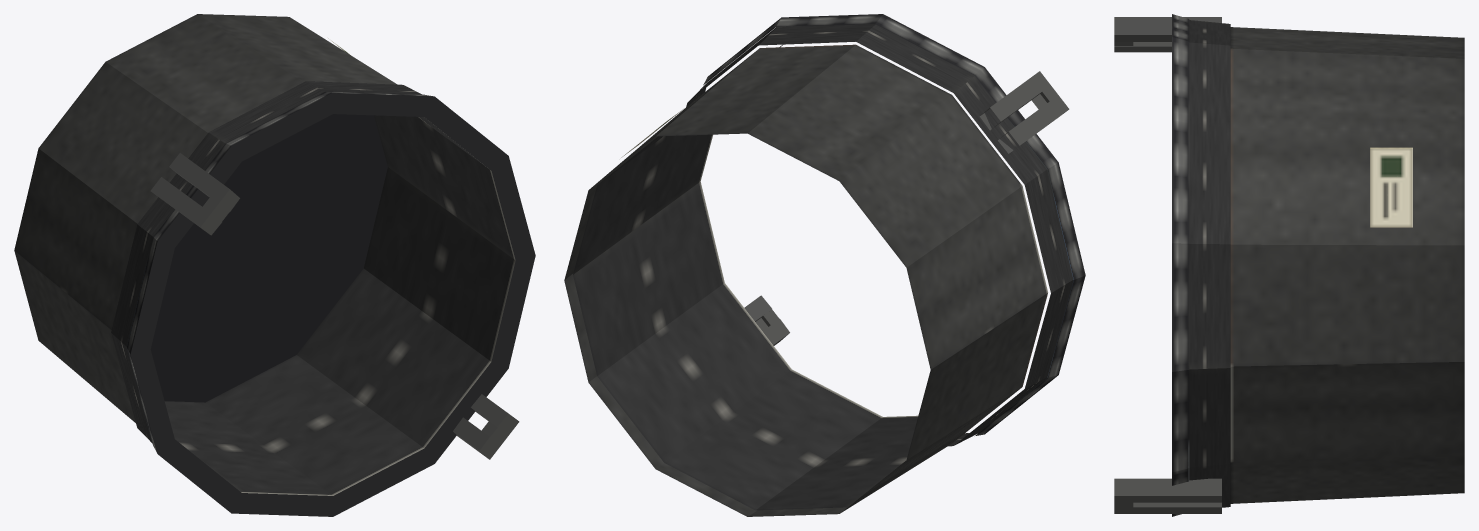
Rendered from pot_bag_s_open.obj.
3 views of the same model, side by side, from view 1: azimuth 30°, elevation 25°; view 2: azimuth 150°, elevation 25°; view 3: azimuth 270°, elevation 25° (orthographic). The views are drawn at different scales.
Bounding box in the file's own units: 0.586 × 0.586 × 0.407.
1 material, 1 textured.
